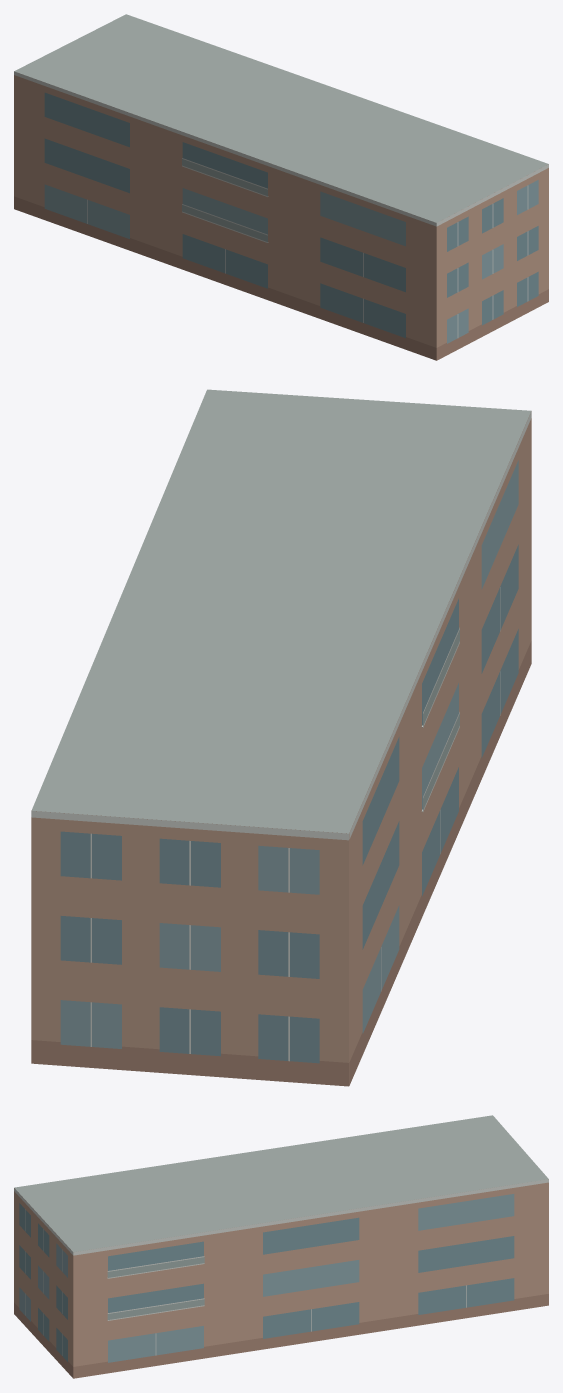
The model's file is survey-upis-32523054.glb.
3 views of the same model, one above another, from view 1: azimuth 30°, elevation 25°; view 2: azimuth 150°, elevation 25°; view 3: azimuth 270°, elevation 25° (orthographic). The views are drawn at different scales.
Parts seen in each view (by area): view 1: survey-upis-32523054.tmp; view 2: survey-upis-32523054.tmp; view 3: survey-upis-32523054.tmp.
Boxes of the visible parts, x1,y1,x2,y2 form: survey-upis-32523054.tmp: (14, 14, 548, 360); survey-upis-32523054.tmp: (31, 389, 531, 1086); survey-upis-32523054.tmp: (14, 1115, 548, 1378).
Size of the model in its own units: 21.28 by 9.15 by 35.1.
